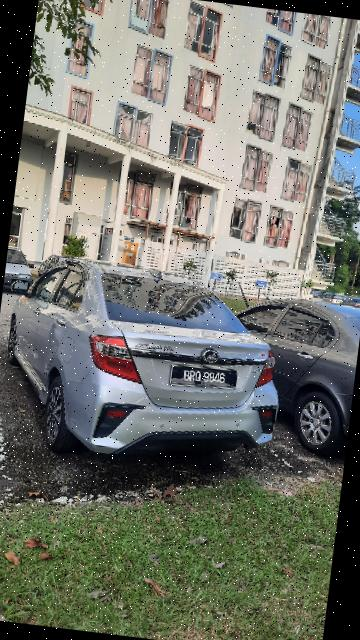License_Plate: (166, 359, 244, 397)
car: (1, 251, 296, 478), (218, 290, 360, 463), (4, 247, 39, 296), (323, 293, 348, 306), (343, 296, 360, 308), (312, 291, 327, 301)
